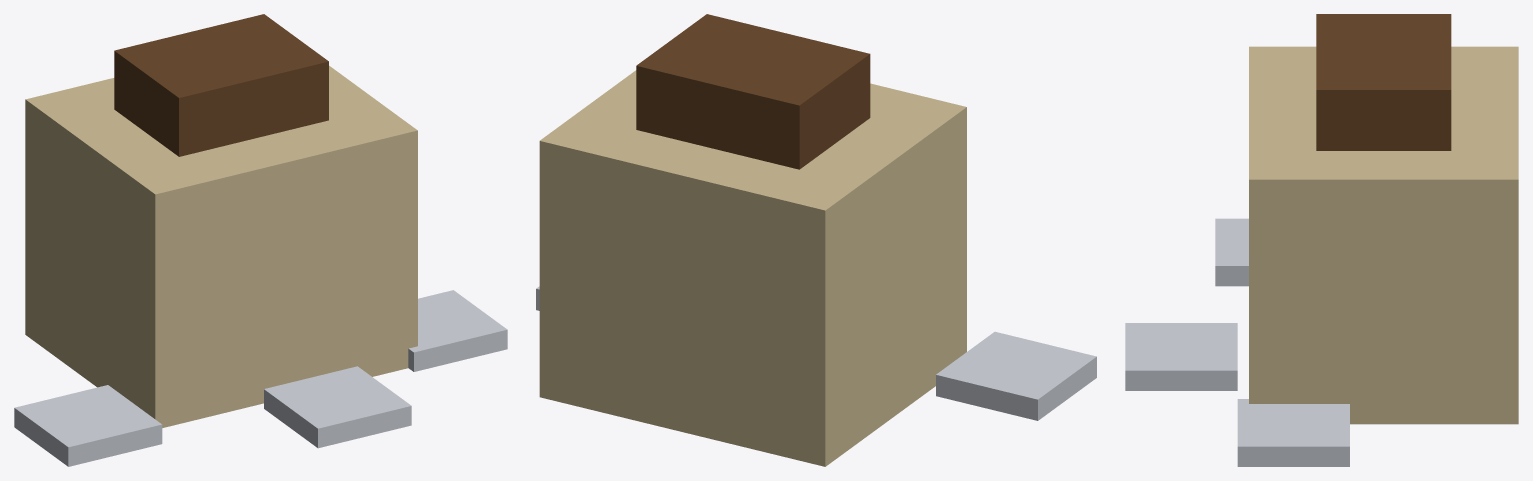
The model's file is pickup_silver.glb.
3 renders of one model, left to right at view 1: azimuth 30°, elevation 25°; view 2: azimuth 150°, elevation 25°; view 3: azimuth 270°, elevation 25°, orthographic. The views are drawn at different scales.
Visible parts, largest first — view 1: pickup_silver; view 2: pickup_silver; view 3: pickup_silver.
Part boxes in pixels (x1,y1,x2,y2): pickup_silver: (14, 14, 507, 466); pickup_silver: (536, 14, 1096, 466); pickup_silver: (1125, 14, 1518, 466).
Bounding box in the file's own units: 0.48 × 0.3 × 0.35.
Materials: 1 (1 with a texture image).
